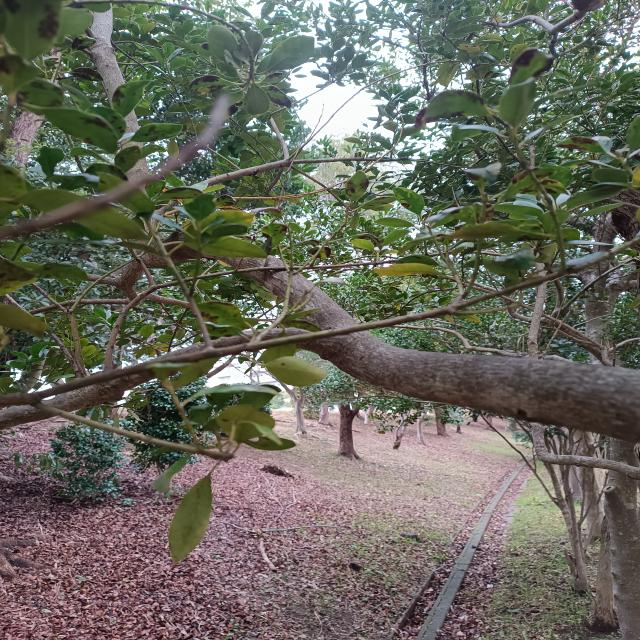Branch: (114, 220, 638, 444)
Twig: (3, 328, 299, 429), (10, 336, 305, 401), (365, 266, 571, 329), (155, 239, 213, 340), (196, 155, 388, 184), (106, 282, 161, 369)
